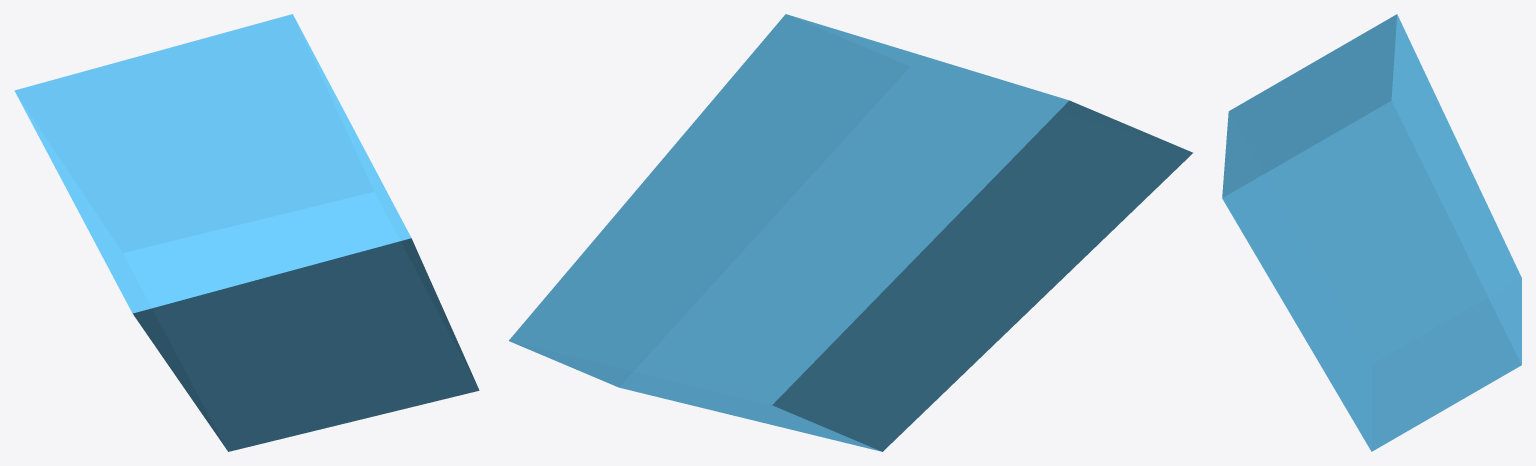
File: Event_421278790_HBrechit_9.fbx
3 renders of one model, left to right at view 1: azimuth 30°, elevation 25°; view 2: azimuth 150°, elevation 25°; view 3: azimuth 270°, elevation 25°, orthographic. The views are drawn at different scales.
Parts seen in each view (by area): view 1: Model; view 2: Model; view 3: Model.
Part boxes in pixels (x1,y1,x2,y2): Model: (14,14,479,451); Model: (509,14,1192,451); Model: (1222,14,1521,451).
Size of the model in its own units: 0.8304 by 0.7248 by 0.6759.
